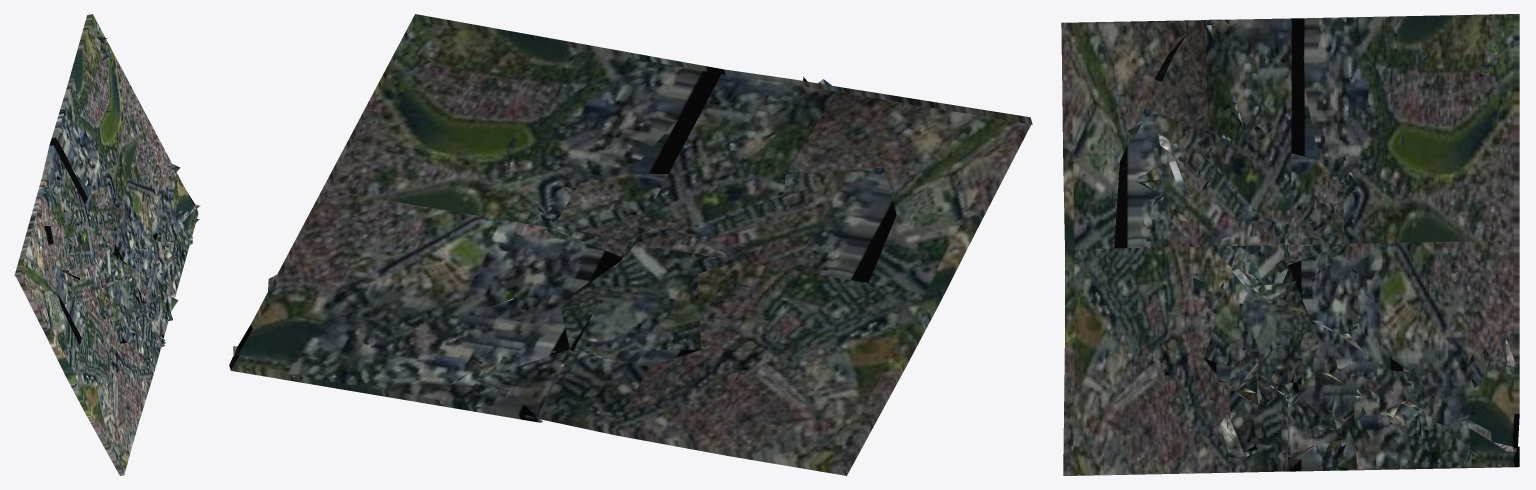
3 views of the same model, side by side, from view 1: azimuth 30°, elevation 25°; view 2: azimuth 150°, elevation 25°; view 3: azimuth 270°, elevation 25° (orthographic). The views are drawn at different scales.
Visible parts, largest first — view 1: node_30436272704363_mesh0; view 2: node_30436272704363_mesh0; view 3: node_30436272704363_mesh0.
Part boxes in pixels (x1,y1,x2,y2): node_30436272704363_mesh0: (14,14,200,475); node_30436272704363_mesh0: (229,14,1032,475); node_30436272704363_mesh0: (1061,14,1519,475).
Bounding box in the file's own units: 2332 × 2334 × 1773.
Materials: 1 (1 with a texture image).
